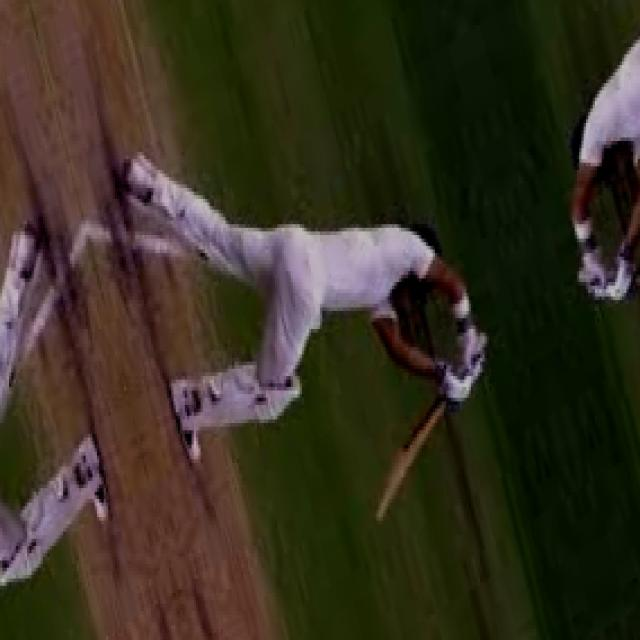toe: (371, 447, 416, 528)
